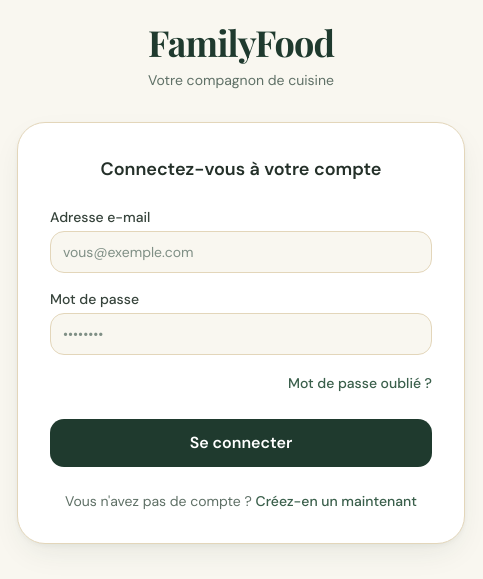
Test case: Auth System › Login Page › shows validation error for invalid email format
This screenshot has width=483, height=579.
Expected: the heading "Connectez-vous à votre compte" is shown, [100,157,381,181]
In the field labelled "Adresse e-mail": (241, 252) [50,231,432,273], type "notanemail"
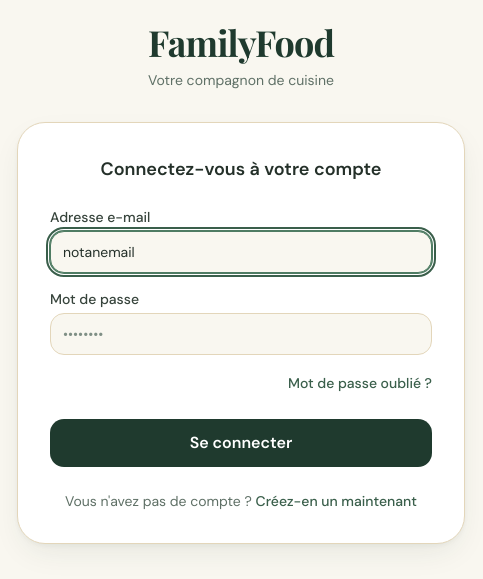
In the password field labelled "Mot de passe": (241, 334) [50,313,432,355], type "Password1"
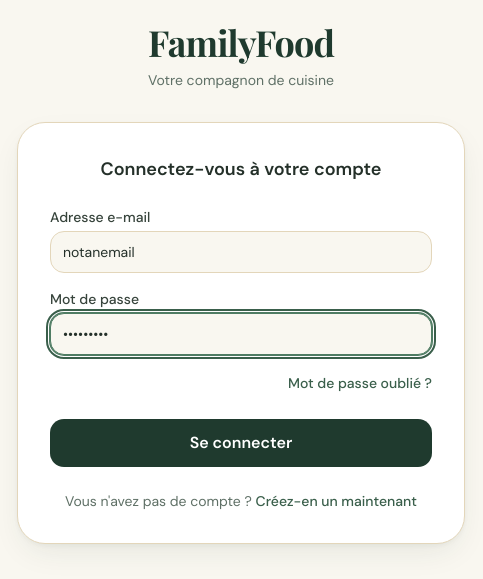
Click the button "Se connecter": (241, 443) [50,419,432,467]
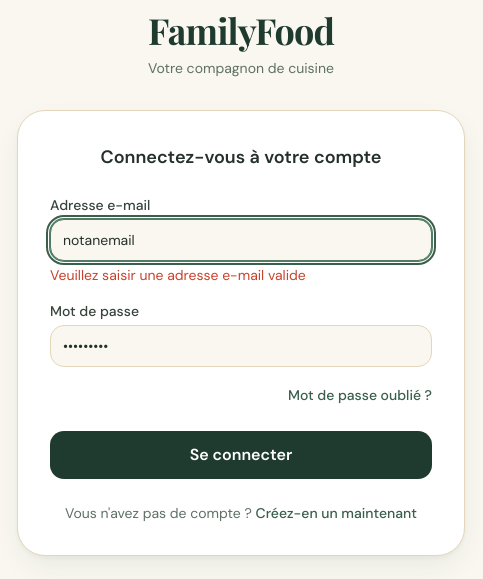
Now the text "Veuillez saisir une adresse e-mail valide" is shown, box [50,266,306,284]
